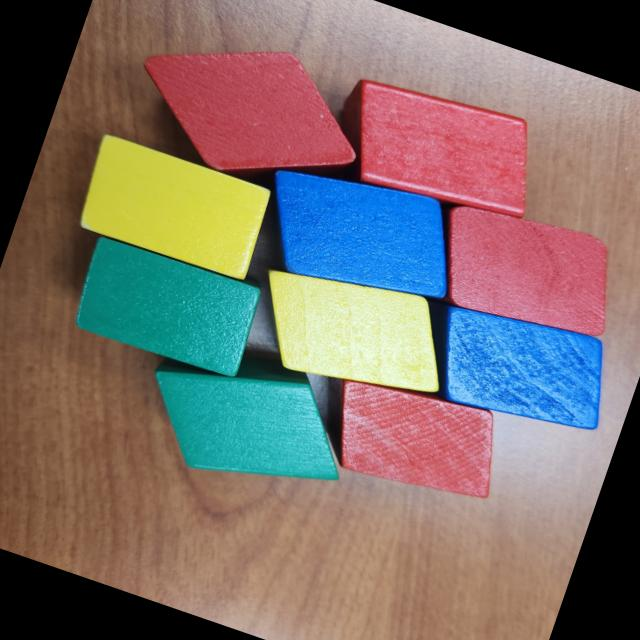blue: (248, 147, 480, 326), (400, 282, 627, 450)
green: (126, 322, 374, 519), (65, 231, 268, 384)
red: (122, 10, 380, 214), (327, 64, 552, 234), (418, 188, 632, 352), (298, 356, 516, 516)
yellow: (242, 247, 466, 420), (72, 130, 276, 282)
